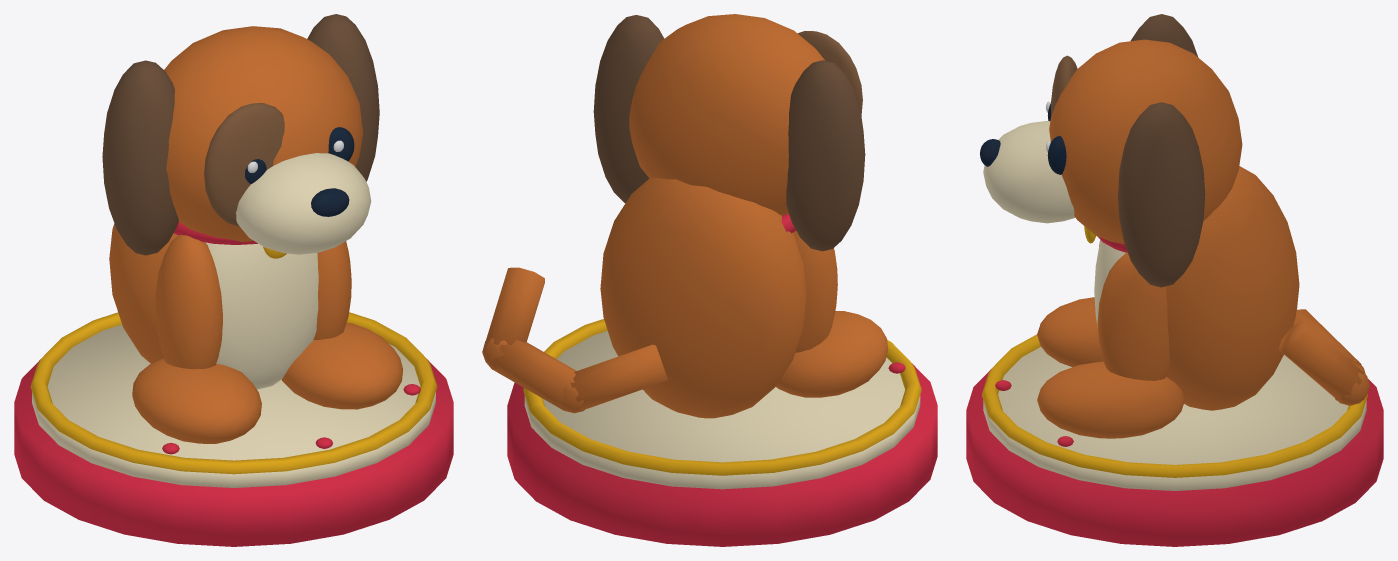
File: red_dog.glb
3 views of the same model, side by side, from view 1: azimuth 30°, elevation 25°; view 2: azimuth 150°, elevation 25°; view 3: azimuth 270°, elevation 25° (orthographic). The views are drawn at different scales.
Visible parts, largest first — view 1: world; view 2: world; view 3: world.
Boxes of the visible parts, x1,y1,x2,y2 form: world: (14,14,453,546); world: (482,14,937,546); world: (966,14,1383,546).
Bounding box in the file's own units: 0.124 × 0.134 × 0.124.
